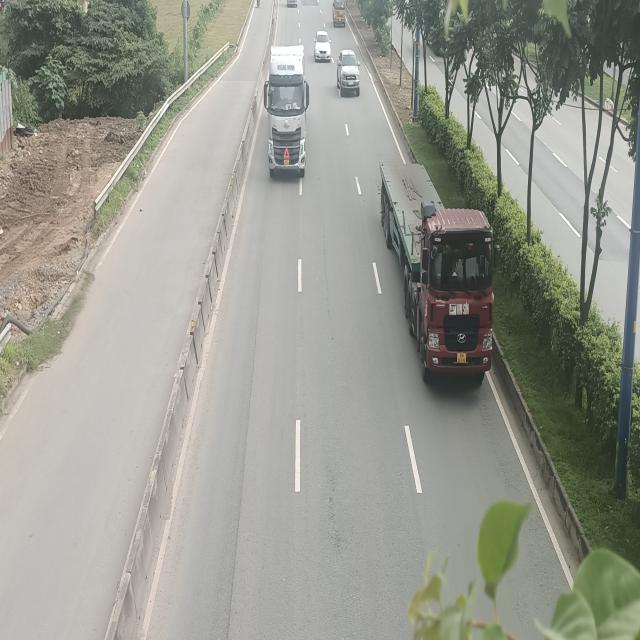car: (337, 50, 361, 96), (314, 28, 332, 61)
container: (382, 163, 497, 388), (264, 42, 311, 176)
